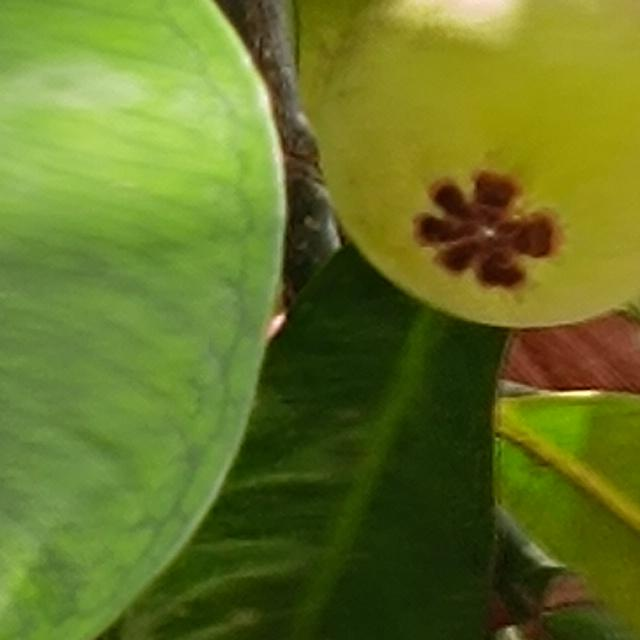mangosteen: (304, 0, 640, 339)
